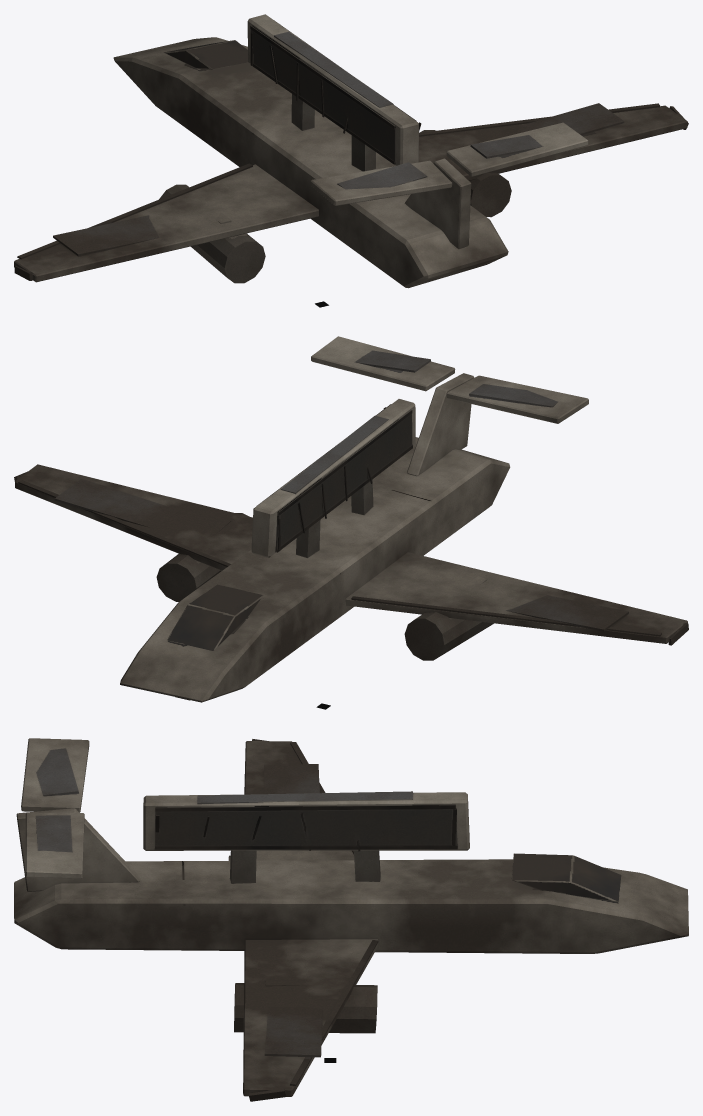
The model's file is ord_archangel_wreck.fbx.
The picture shows the model from 3 angles, top to bottom: view 1: azimuth 30°, elevation 25°; view 2: azimuth 150°, elevation 25°; view 3: azimuth 270°, elevation 25°; orthographic projection. The views are drawn at different scales.
Visible parts, largest first — view 1: base_bar, dish_bar; view 2: base_bar, dish_bar; view 3: base_bar, dish_bar.
Boxes of the visible parts, box(x1,y1,x2,y2) form: base_bar: box(14, 37, 688, 288); dish_bar: box(247, 14, 421, 165); base_bar: box(14, 336, 688, 702); dish_bar: box(251, 399, 415, 557); base_bar: box(14, 738, 688, 1101); dish_bar: box(143, 791, 469, 851).
Size of the model in its own units: 1372 by 485 by 1124.
2 materials, 2 textured.
